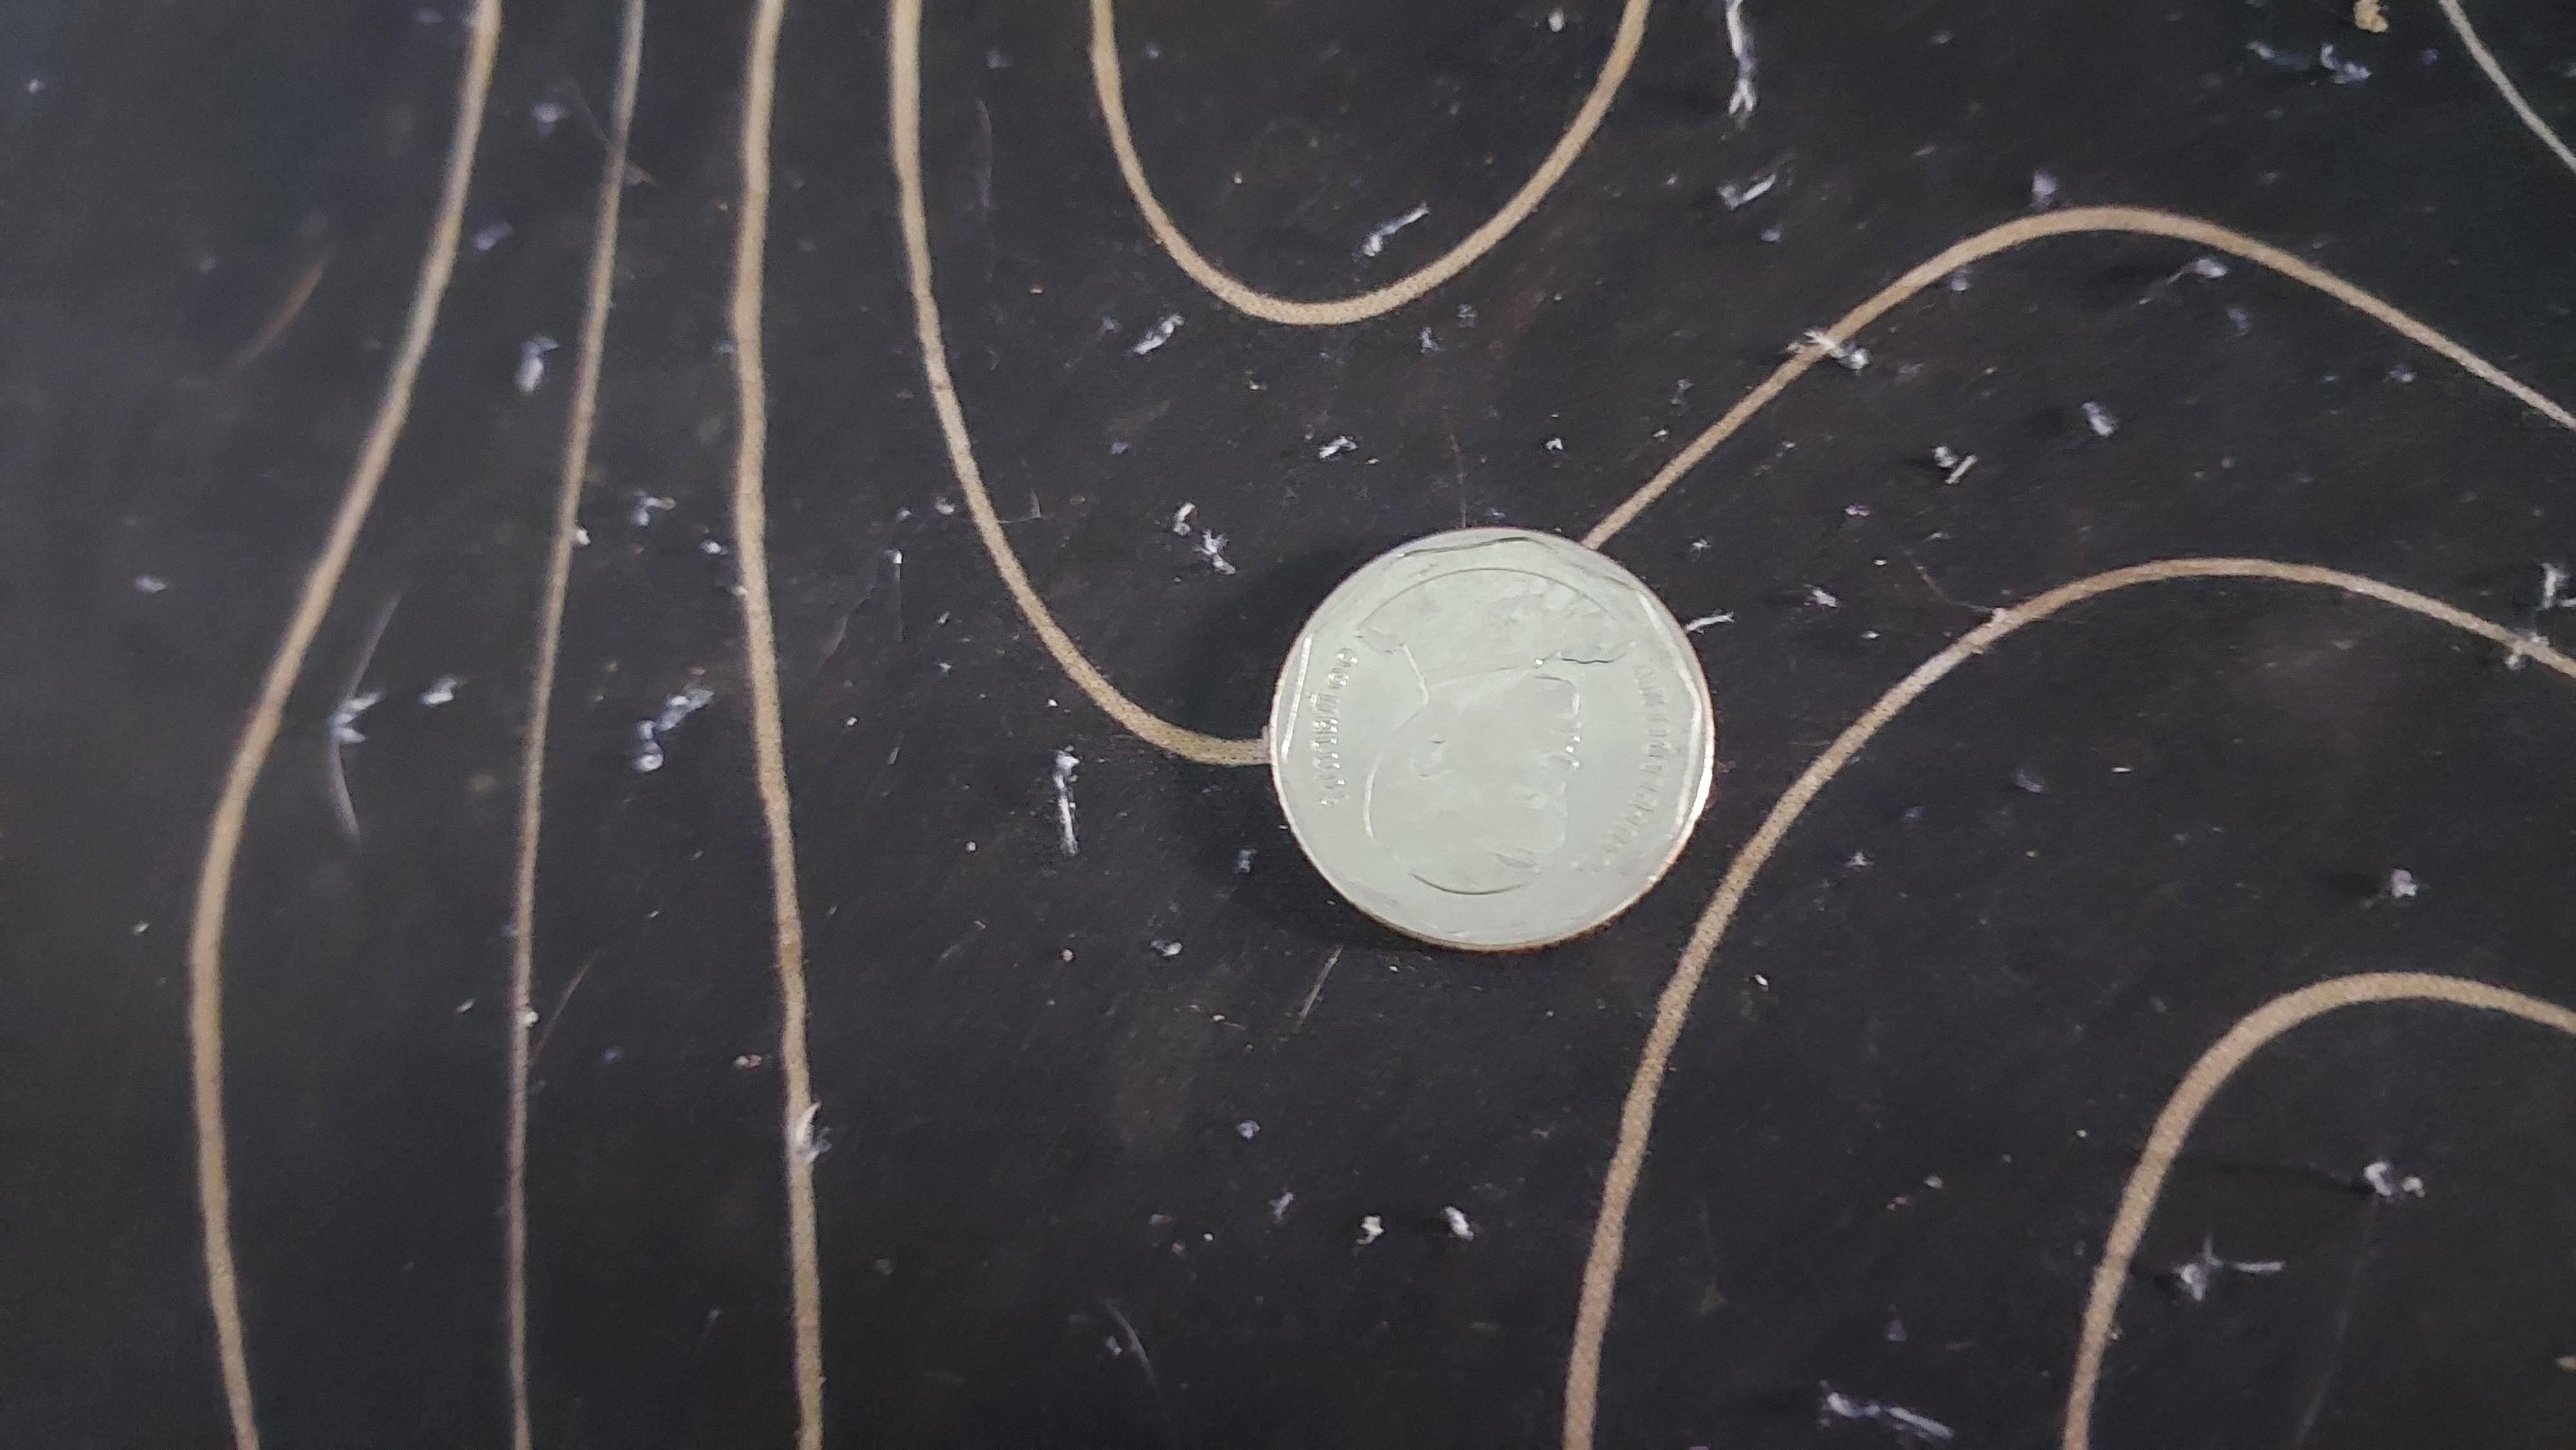5baht: (1228, 511, 1741, 966)
